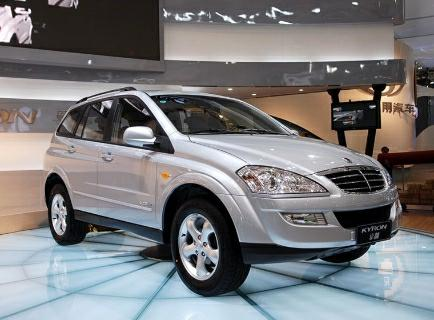car: (27, 83, 413, 298)
